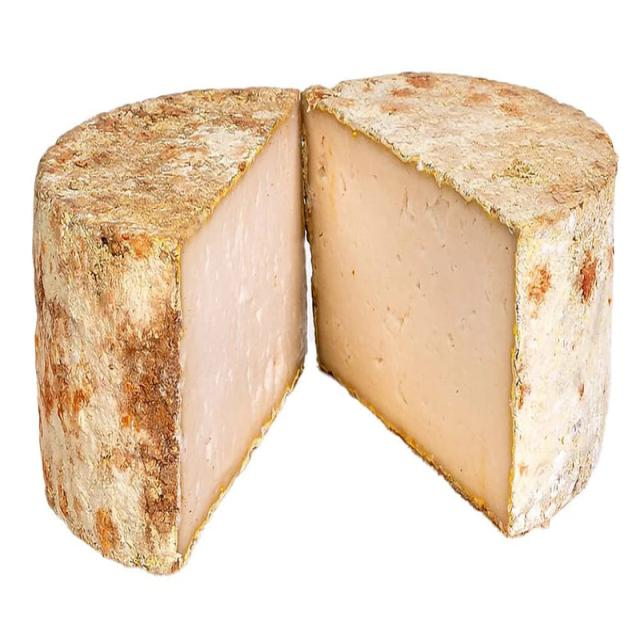Cheese: (278, 47, 618, 550), (35, 64, 310, 576)
